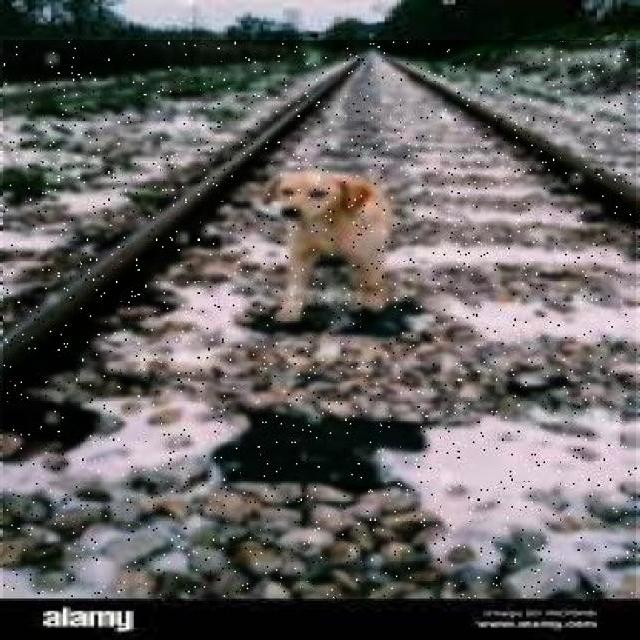rail: (5, 41, 637, 599)
